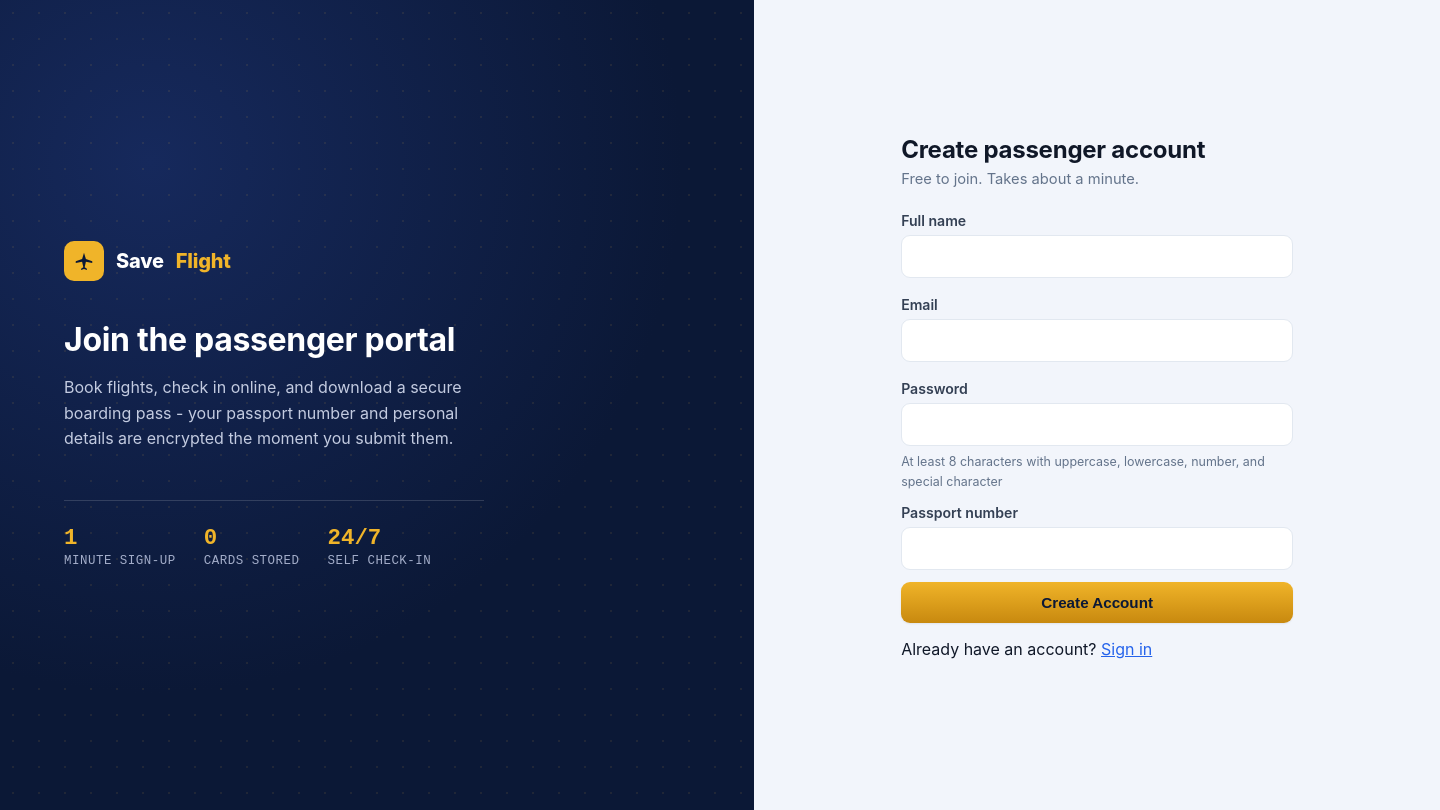
it: Register Component › rejects an invalid passport number client-side
Type "Jane Traveler" into the field labelled "Full name".
click(1097, 256); type("Jane Traveler")  # box [901,235,1293,278]
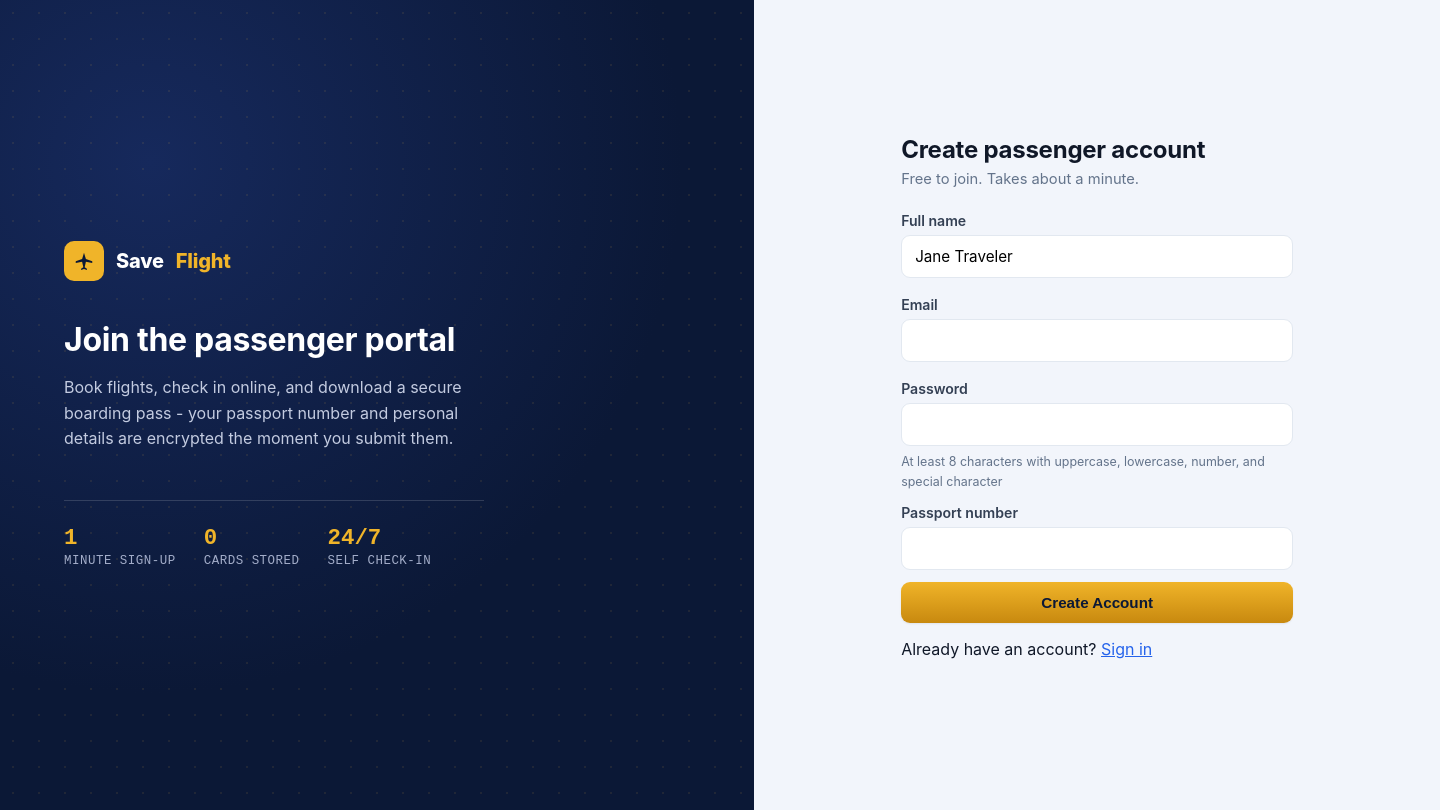
Type "jane@example.com" into the field labelled "Email".
click(1097, 340); type("jane@example.com")  # box [901,319,1293,362]
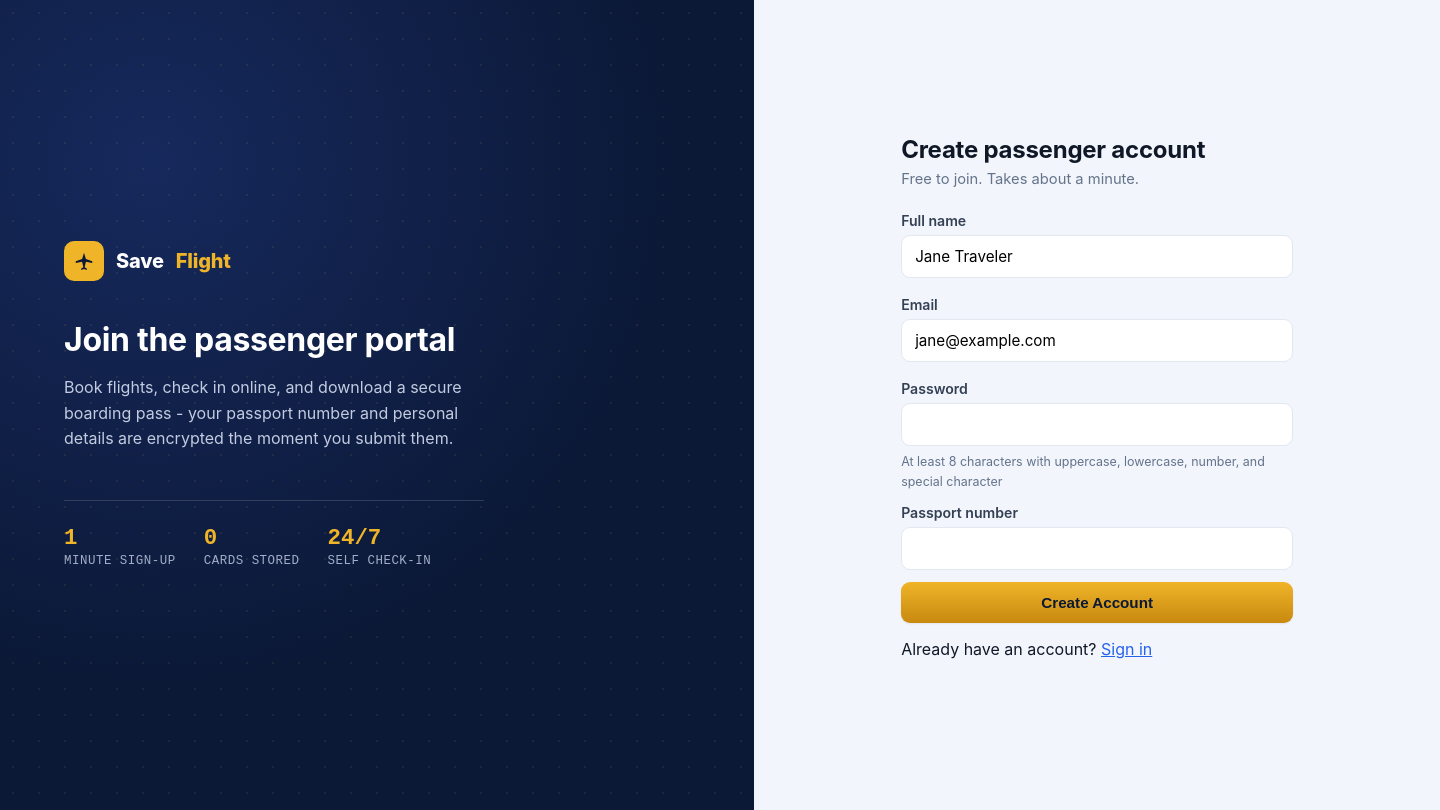
Type "SecureP@ss1!" into the password field labelled "Password".
click(1097, 424); type("SecureP@ss1!")  # box [901,403,1293,446]
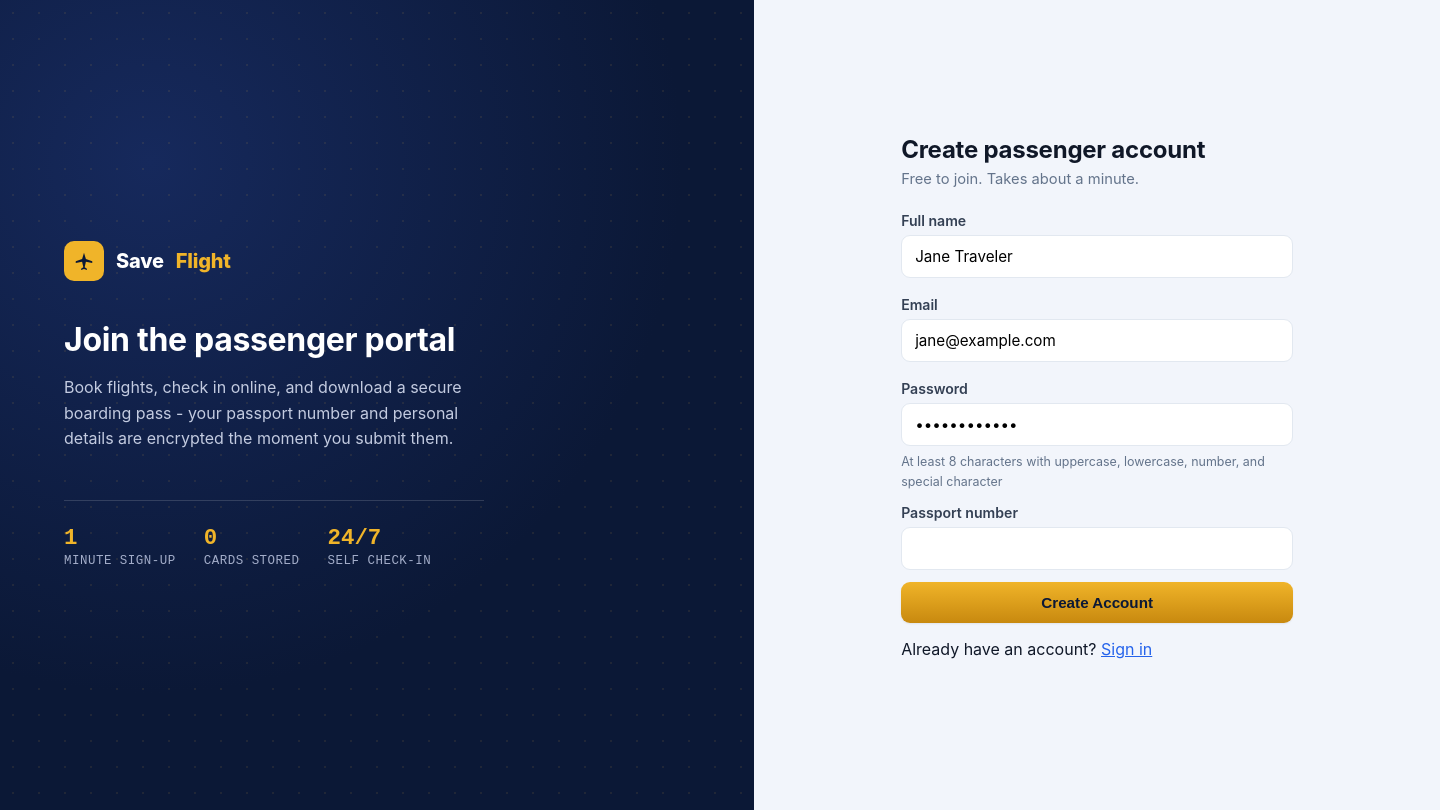
Type "bad" into the field labelled "Passport number".
click(1097, 548); type("bad")  # box [901,527,1293,570]
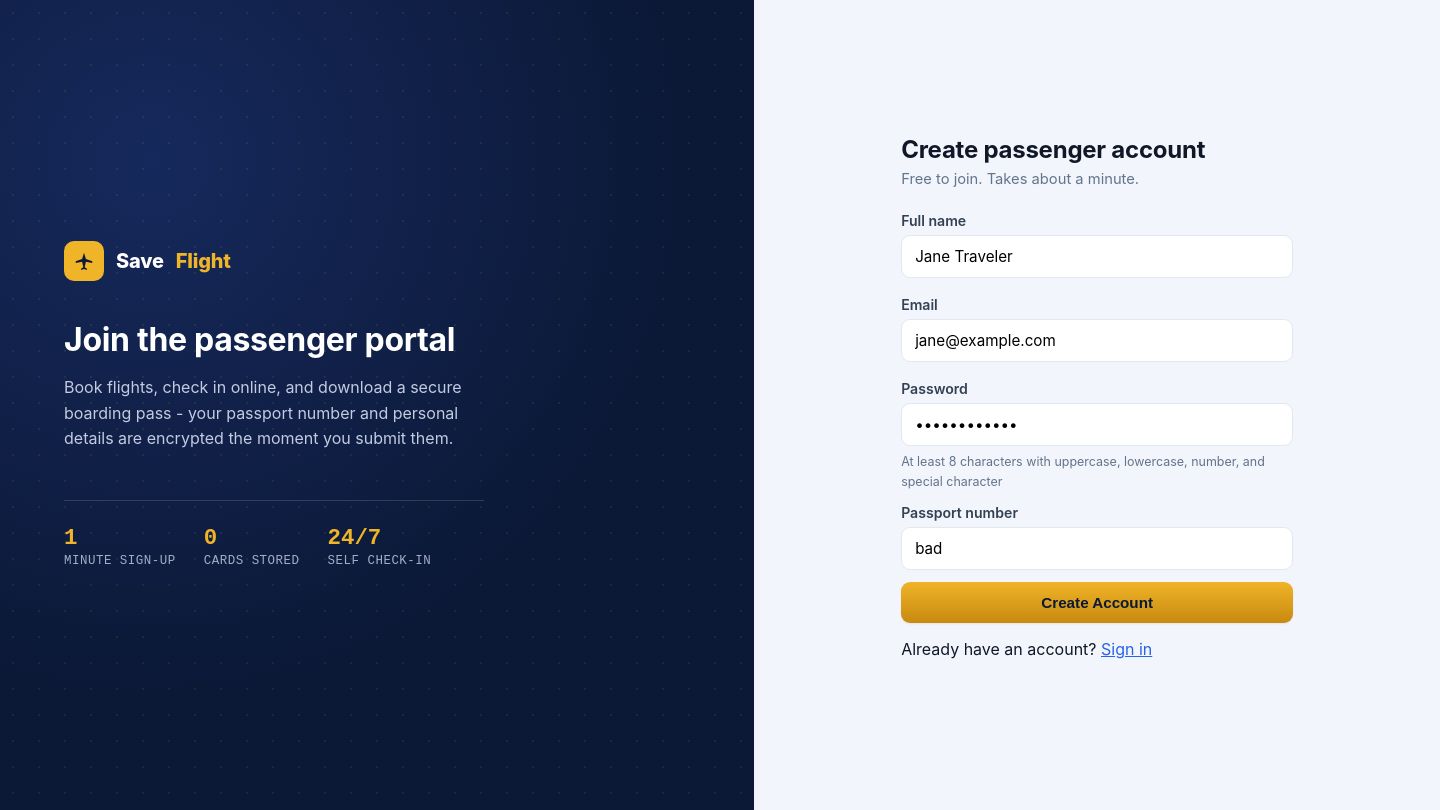
Click the button "Create Account".
click(1097, 602)  # box [901,582,1293,623]
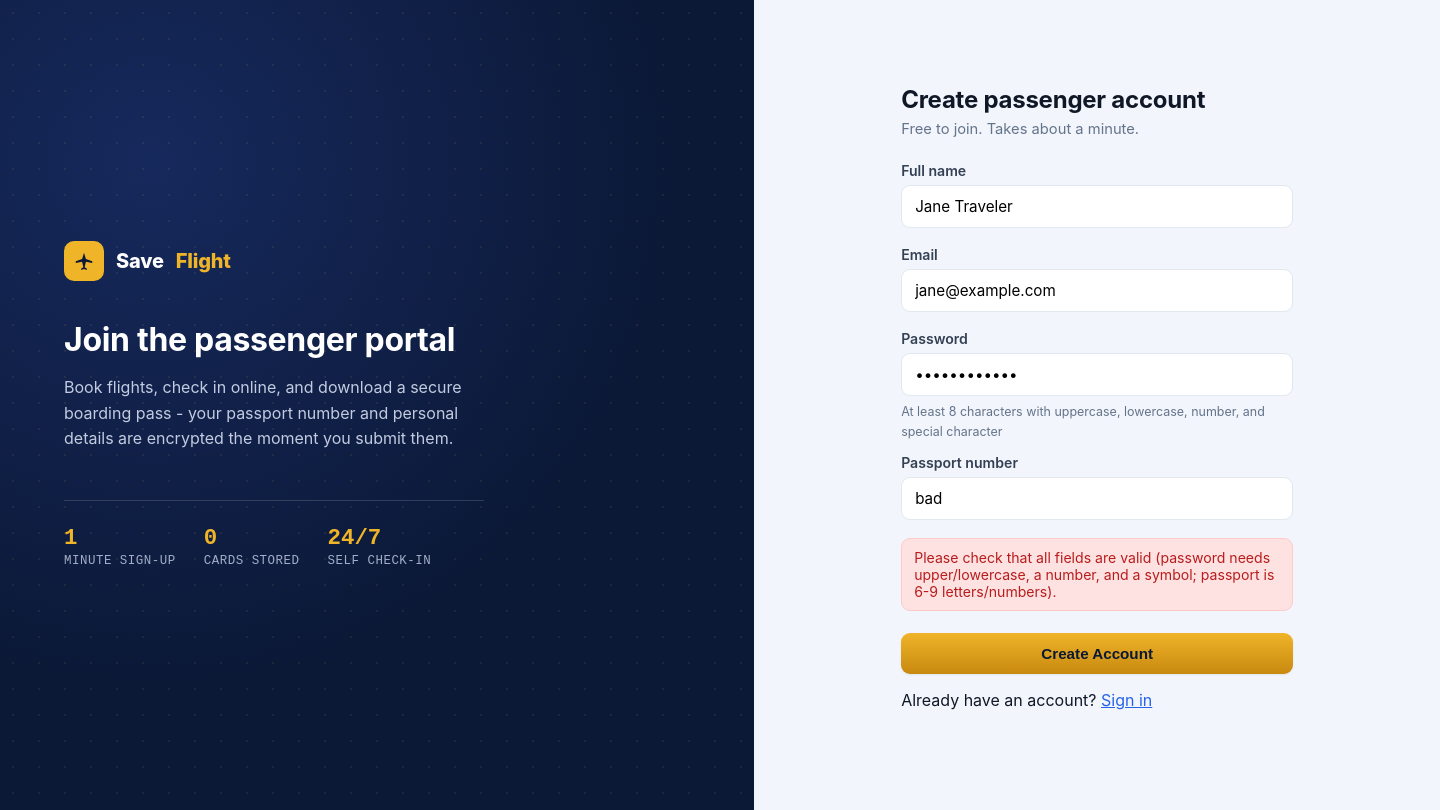
Result: the text "Please check that all fields are valid" is shown at [914,548,1274,600]
